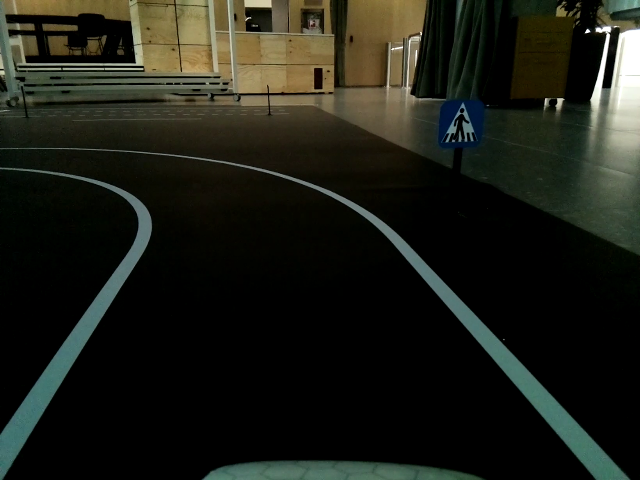pedestrians: (436, 102, 484, 148)
